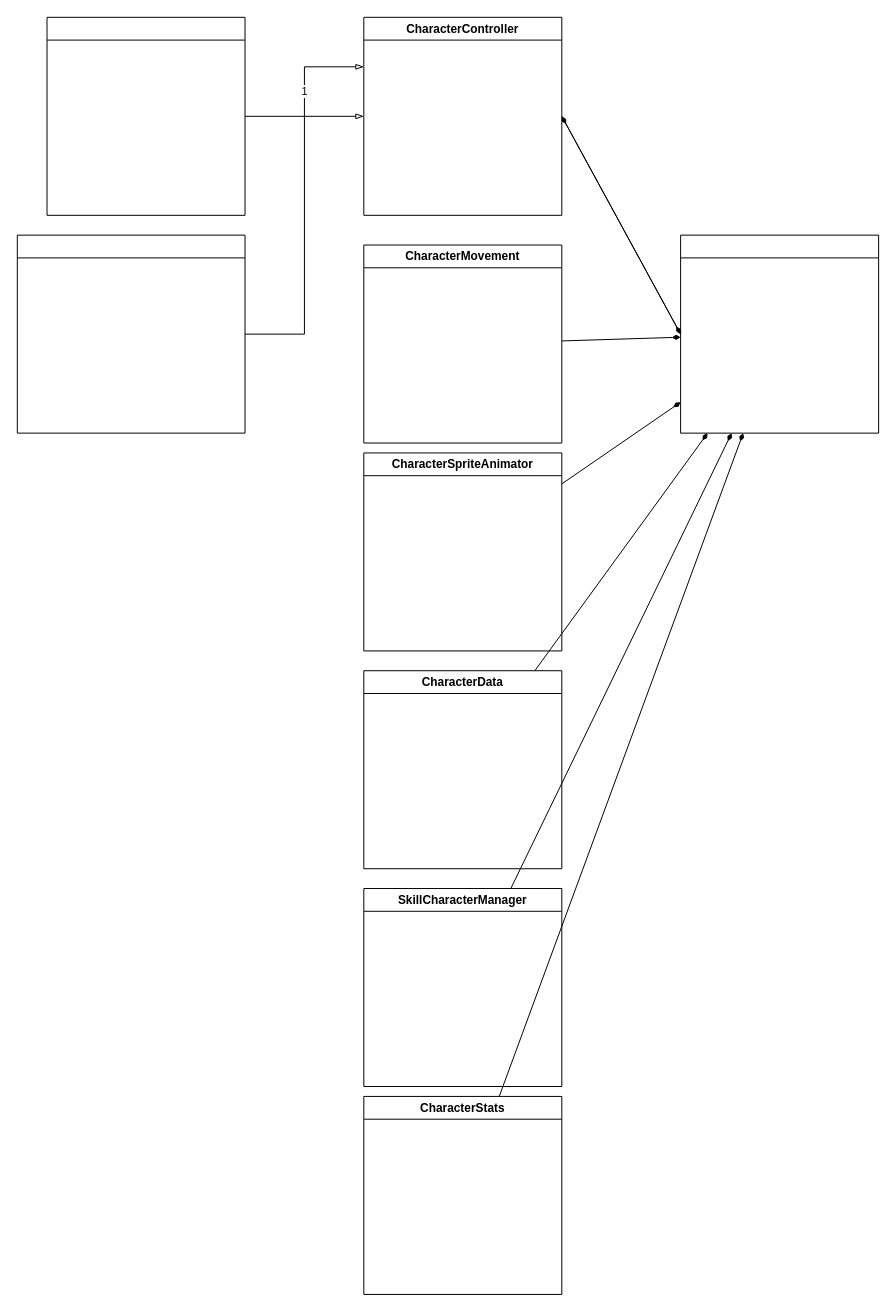
The diagram is 896 pixels wide and 1312 high, and some of its shapes have lost their labels. The shapes that lost their labels are listed below. From the top down, each one's centre as x and y in pixels, then its label:
At pixel 145 115: "PlayerController".
At pixel 130 333: "BasicMovementCharacterController".
At pixel 779 333: "CharactetrManager".
